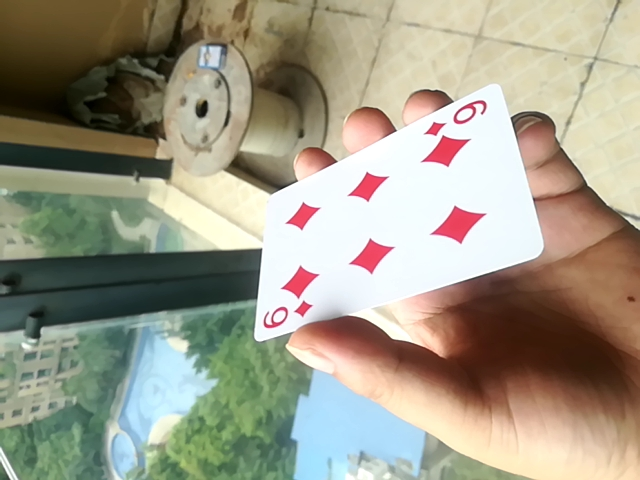fk 6: (247, 89, 540, 358)
